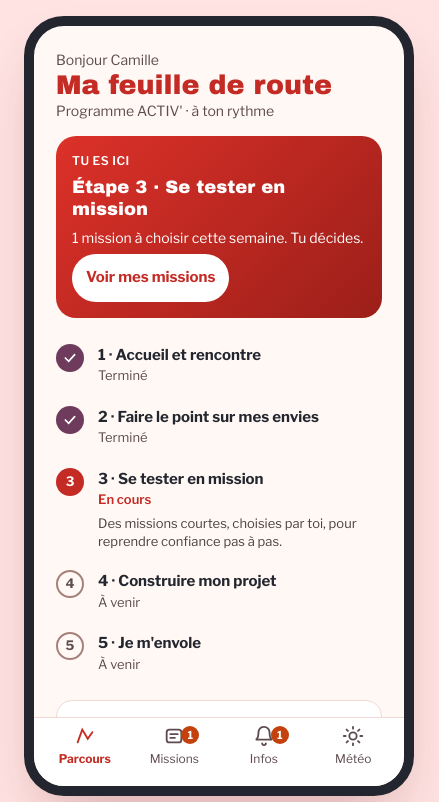
écran de la participante › affiche la feuille de route à l'étape renvoyée par l'API, et les missions avec leurs raisons
Expected: the text "Bonjour Camille" is shown, [56,51,159,68]
Expected: the heading "Étape 3 · Se tester en mission" is shown, [72,177,285,219]
What coordinates should you click on to do the following:
click the button "Missions 1"
I would click on:
 (174, 748)
Its box is [130,724,219,772].
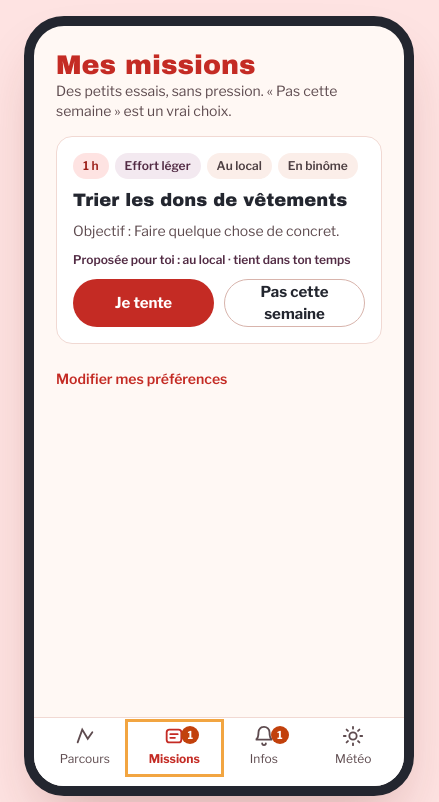
Expected: the text "1 h" is shown, [73,153,108,179]
Expected: the text "Proposée pour toi : au local · tient dans ton temps" is shown, [73,251,365,269]
What coordinates should you click on to do the following:
click the button "Météo"
I would click on:
 (353, 748)
Its box is [308,724,398,772].
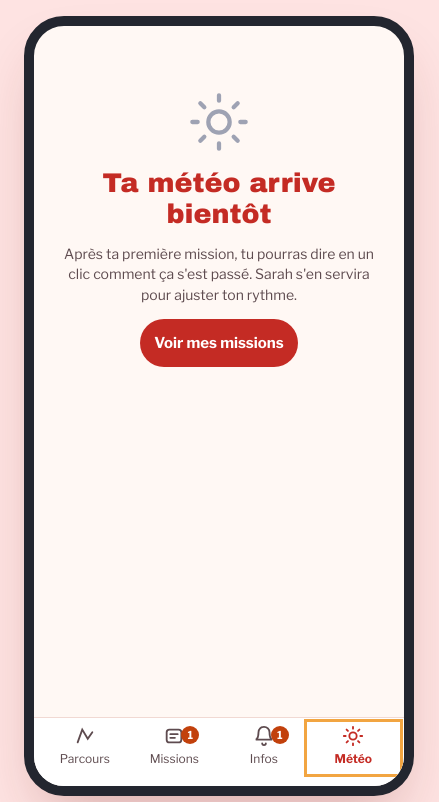
Expected: the heading "Ta météo arrive bientôt" is shown, [102,168,336,229]
